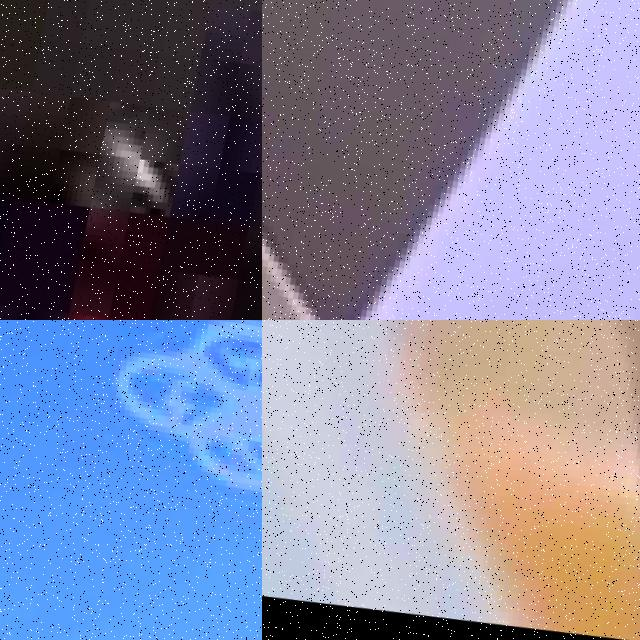0: (0, 0, 262, 320)
drone: (262, 320, 640, 640)
